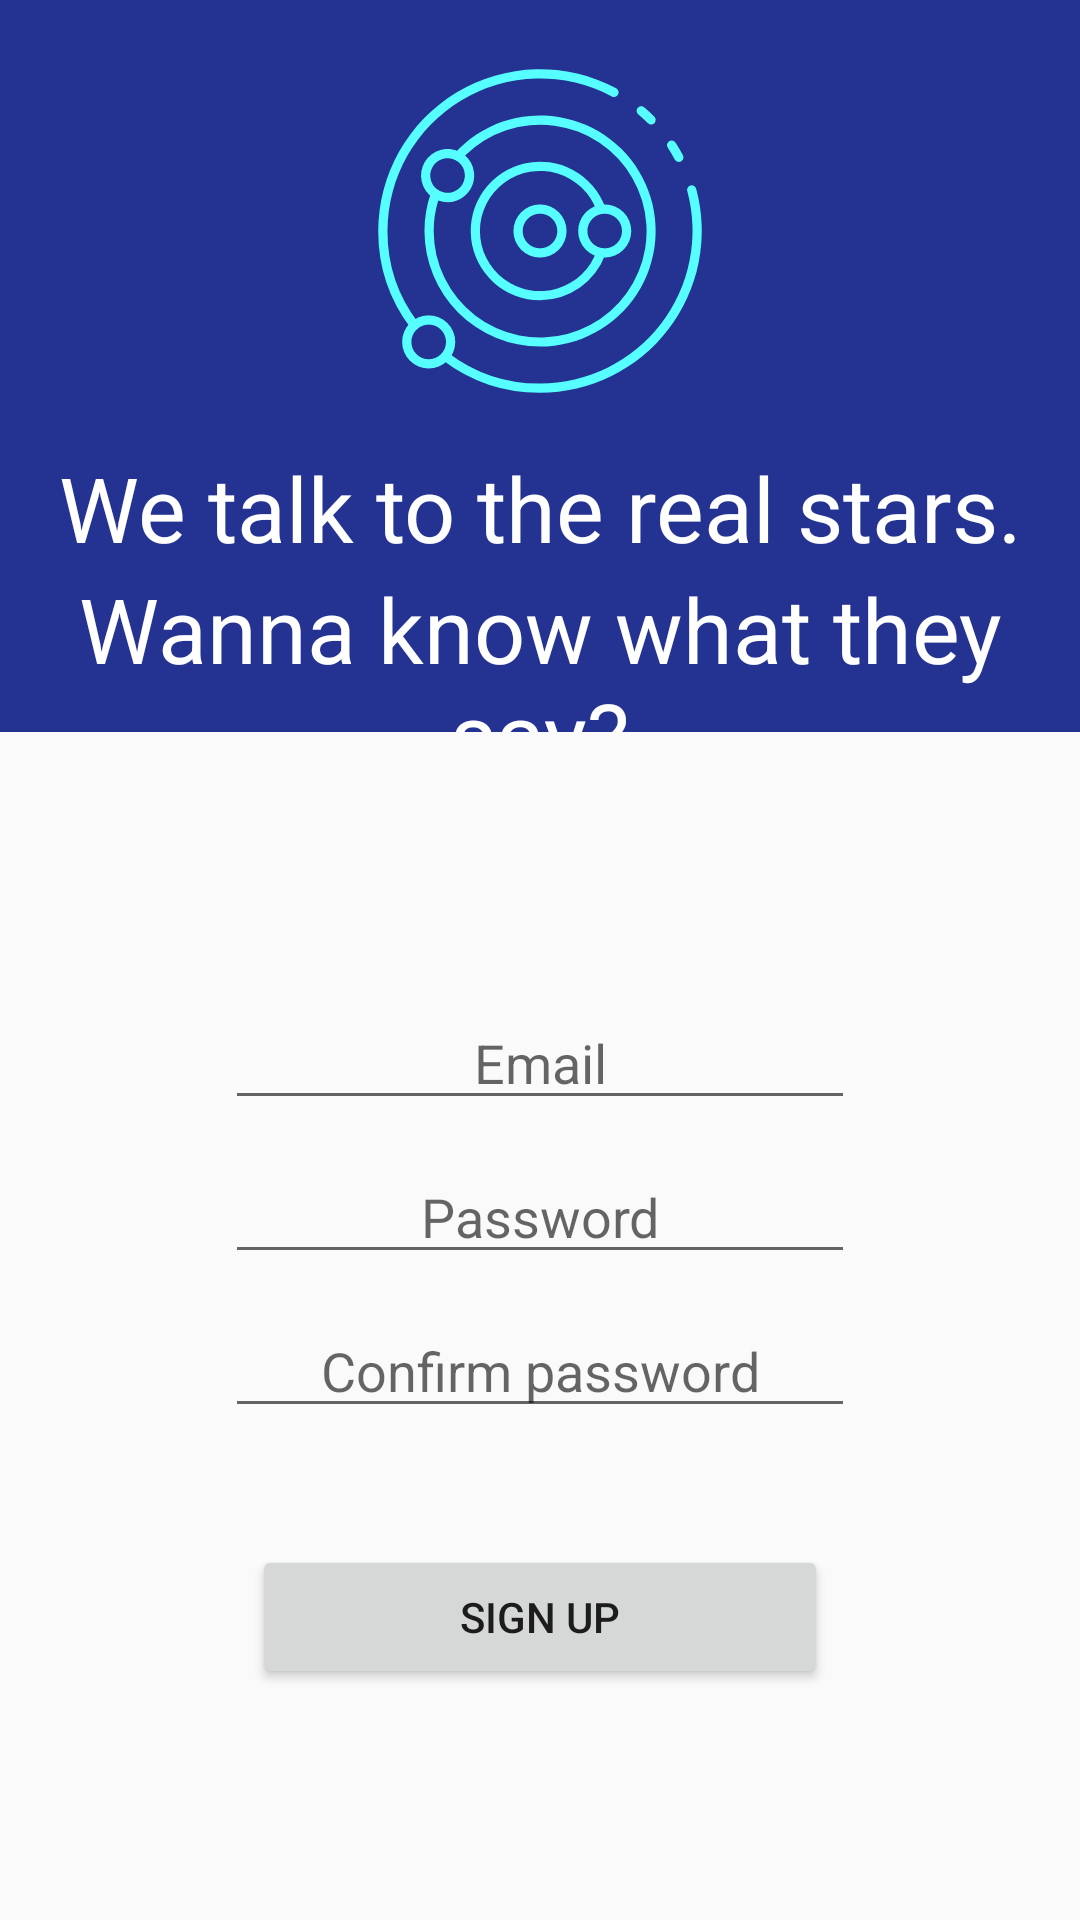

Named icons in this screenshot (1080px x 1920px) and their bounding boxes, [x1=x1, y1=y1, x2=x2, y2=y2]:
orbit: [x1=378, y1=69, x2=702, y2=393]
